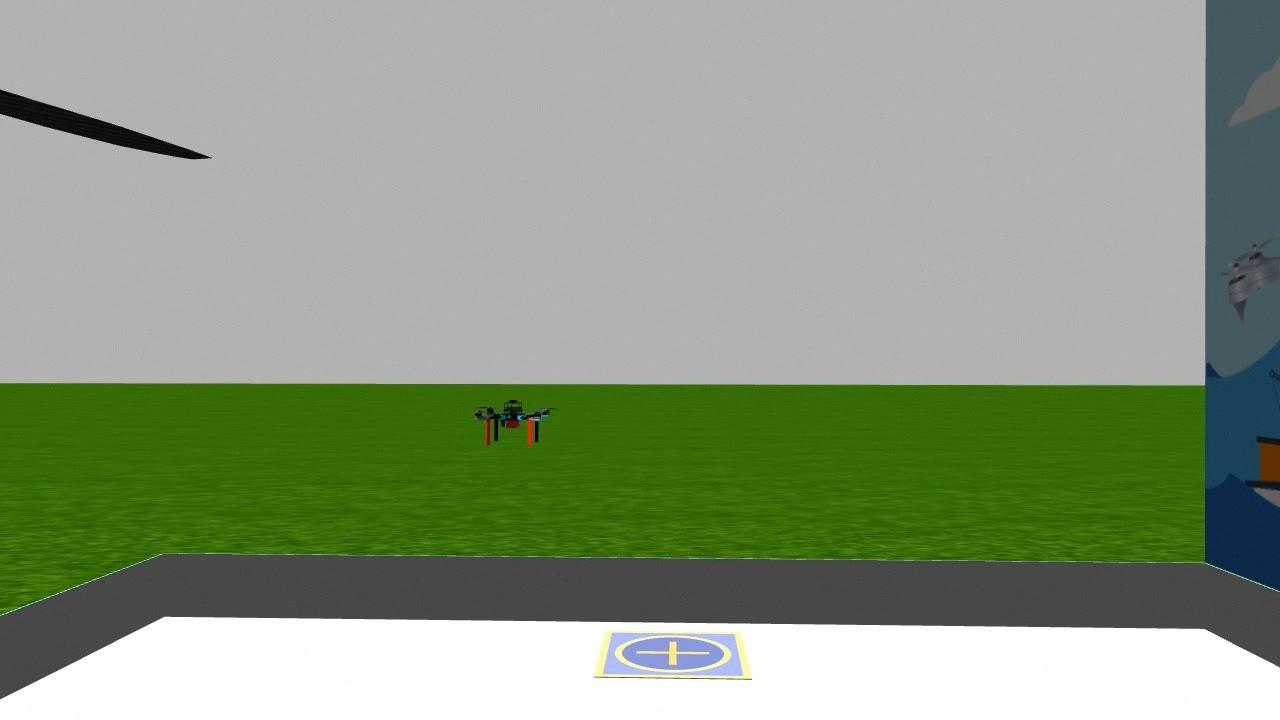UAV: (466, 378, 561, 459)
